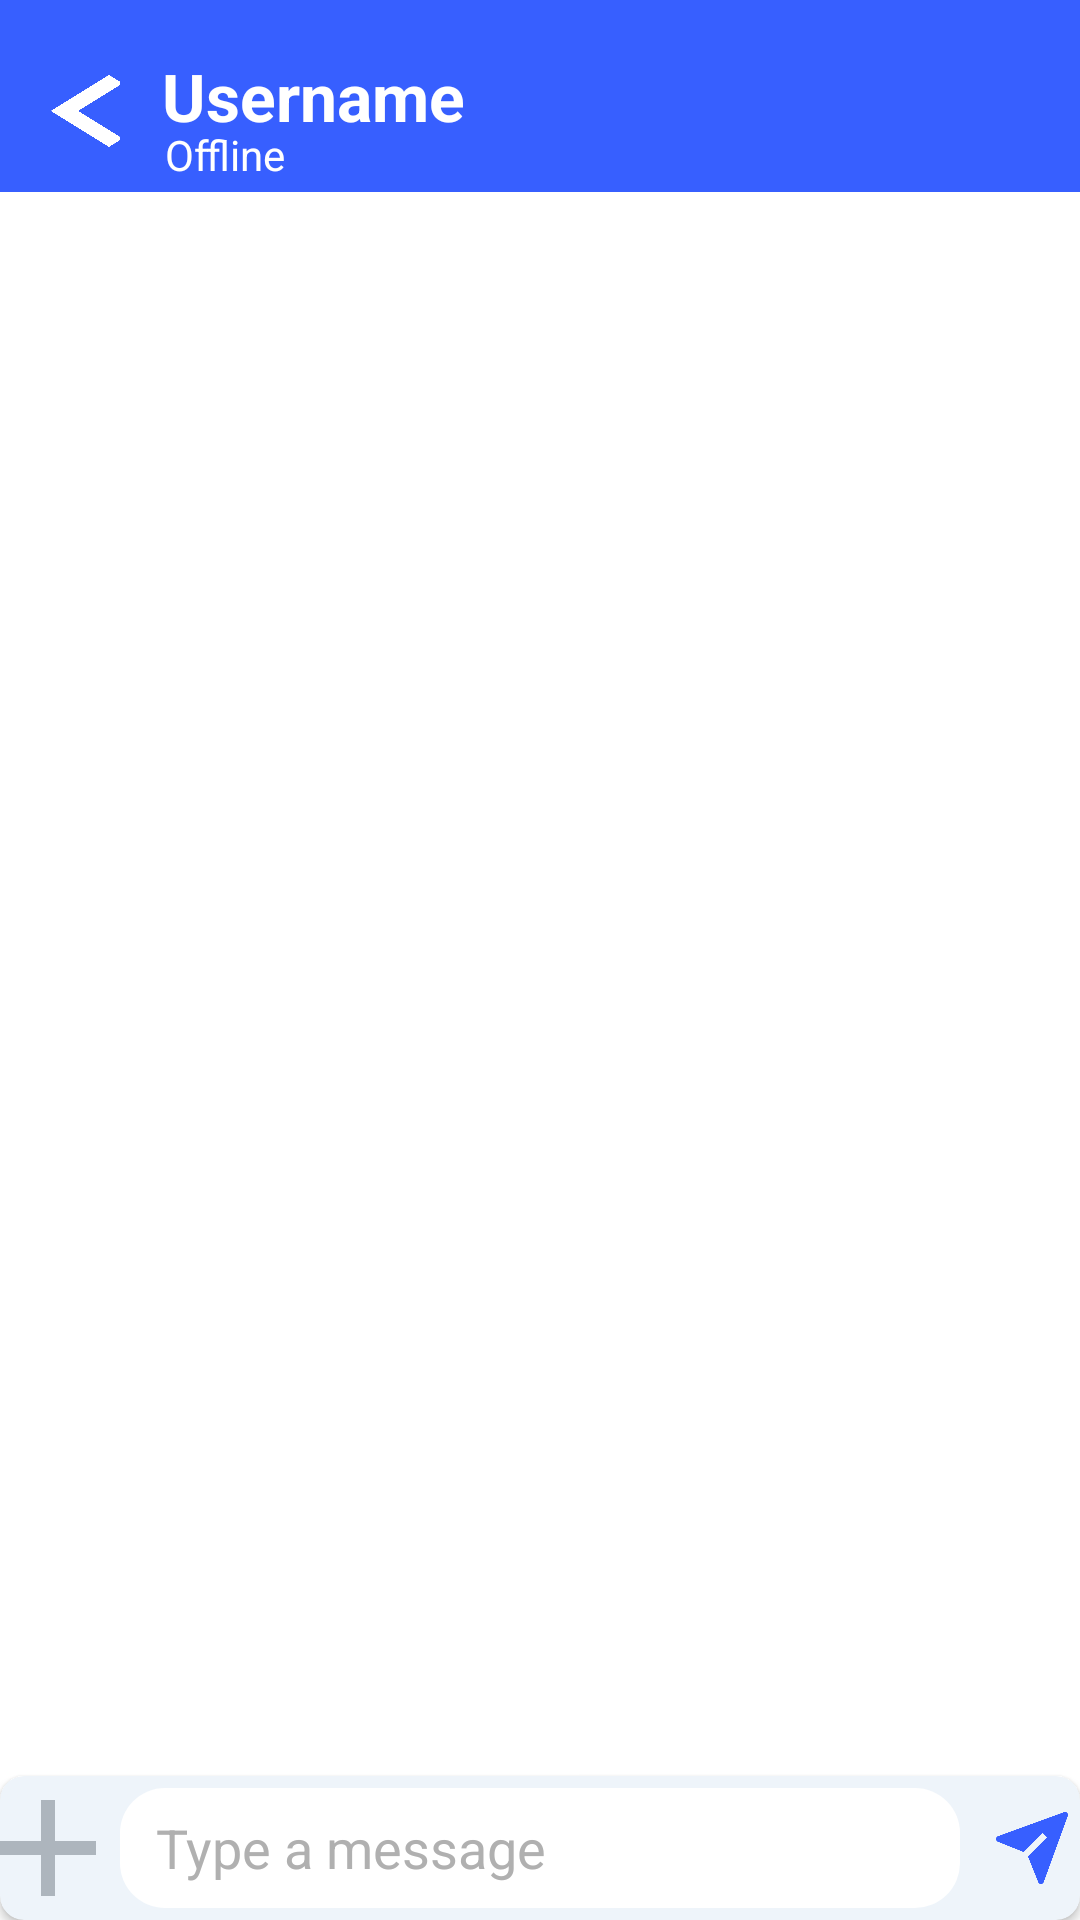

Icon bounding boxes for this 1080px×1920px phone screenshot, format (x1, y1, x2, y2):
Attach: (0, 1800, 96, 1896)
Send: (996, 1812, 1068, 1884)
